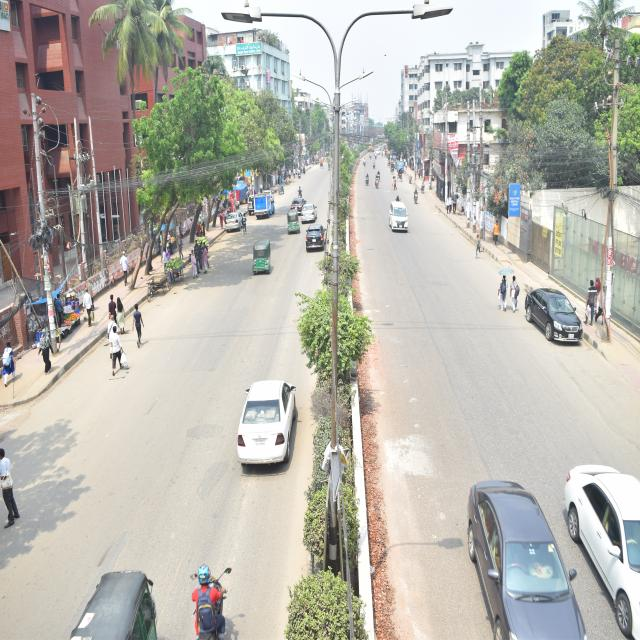car: (409, 433, 602, 640), (551, 433, 640, 640), (194, 360, 296, 478), (512, 270, 591, 368), (302, 218, 332, 264), (220, 206, 248, 236), (282, 190, 310, 219), (299, 198, 323, 230), (258, 176, 279, 209)
microbus: (383, 196, 412, 252)
motorbike: (170, 514, 237, 640), (369, 169, 383, 193), (294, 179, 306, 201), (365, 167, 372, 190), (375, 166, 385, 182), (360, 153, 368, 170), (372, 150, 380, 166), (327, 160, 333, 175), (373, 160, 379, 173), (368, 150, 374, 160)
pickup-van: (252, 188, 283, 220), (394, 155, 409, 178)
